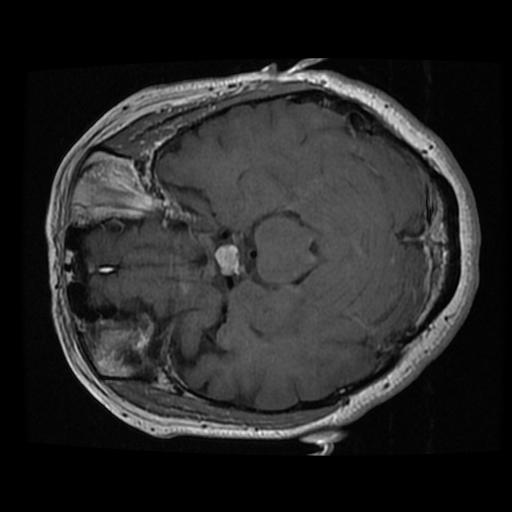pituitary tumour: (214, 244, 244, 277)
